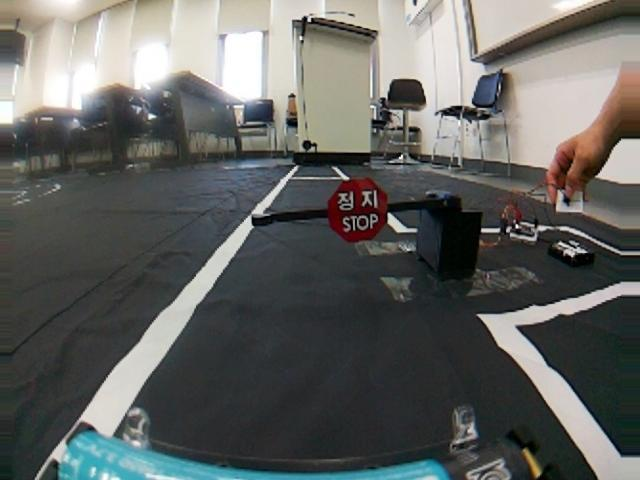sign_stop: (306, 164, 404, 246)
straight: (56, 300, 629, 480)
